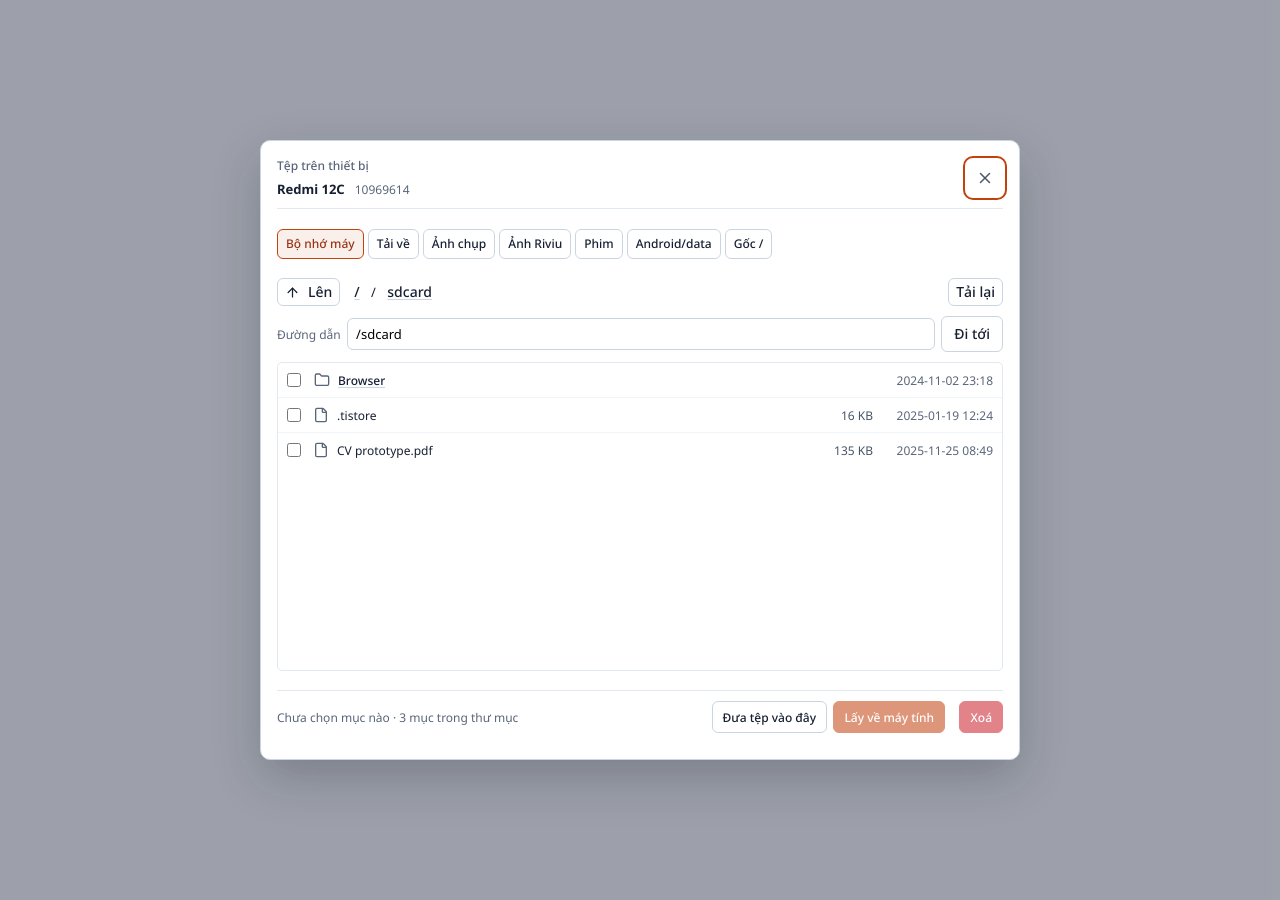
it: DeviceFilesPopup › drops the selection when the listing changes underneath it
Click the checkbox named "Chọn .tistore": [294, 416] box [287,408,301,422]
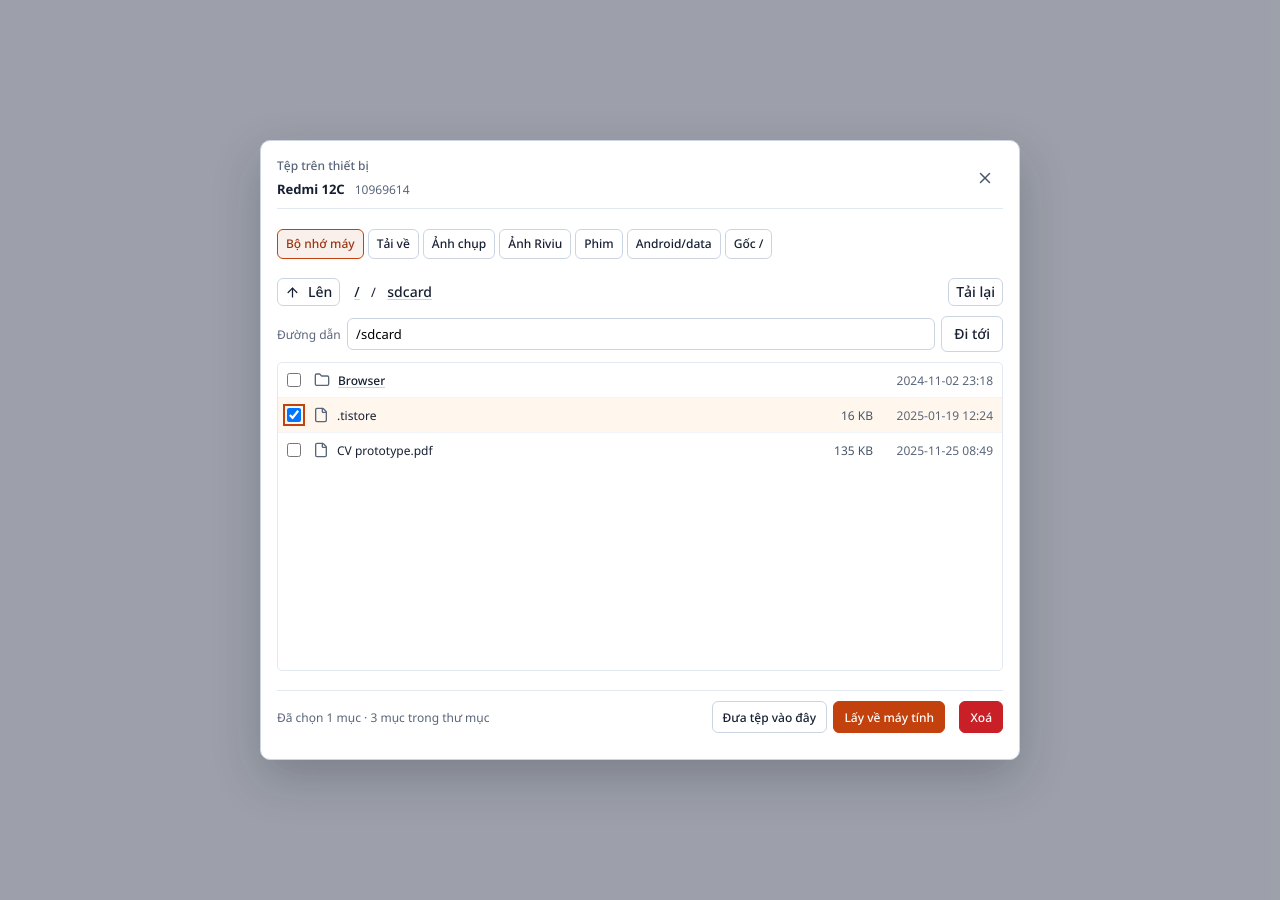
Check: the text "Đã chọn 1 mục" is shown, box [277,709,361,726]
Click the button "Browser": [362, 380] box [313,366,800,394]
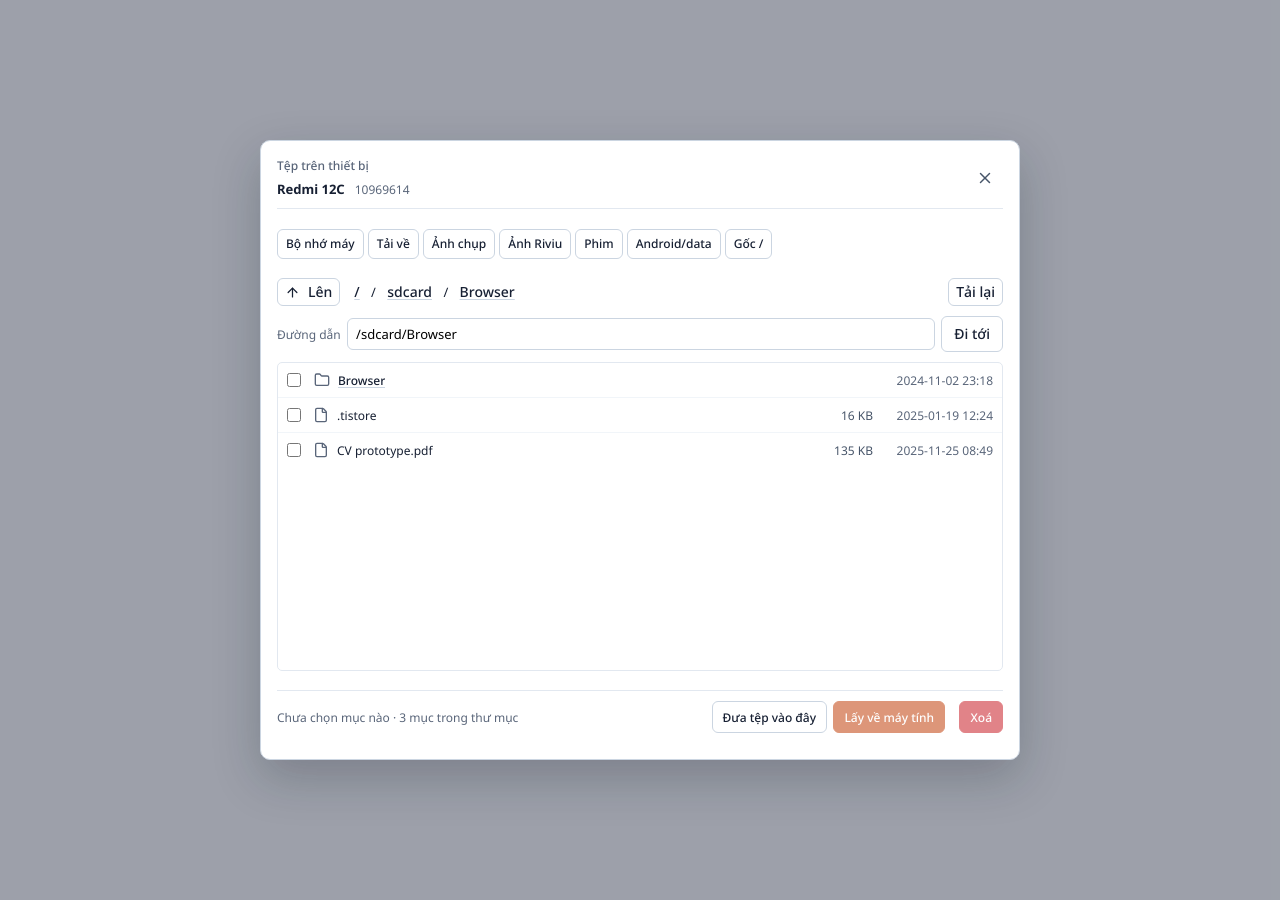
Check: the text "Chưa chọn mục nào" is shown, box [277,709,390,726]
